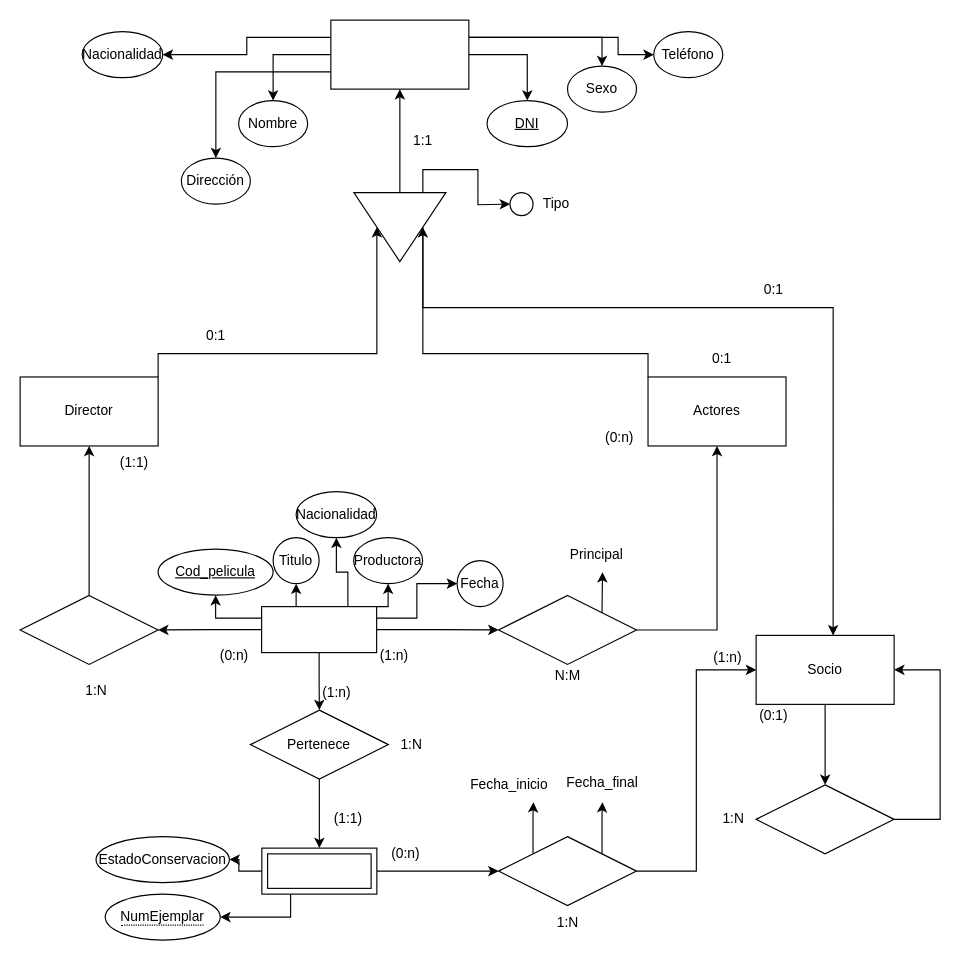
Image size: 969x960. Some labels were removed from this diagram. Here are the shapes that lost their labels. From the top down, the centre of each, then its label:
At (x=399, y=54): "Persona".
At (x=399, y=226): "Es un".
At (x=88, y=629): "Dirigida".
At (x=318, y=629): "Película".
At (x=567, y=629): "Participan".
At (x=824, y=819): "Abalar".
At (x=319, y=870): "Ejemplar".
At (x=567, y=870): "Alquila".
